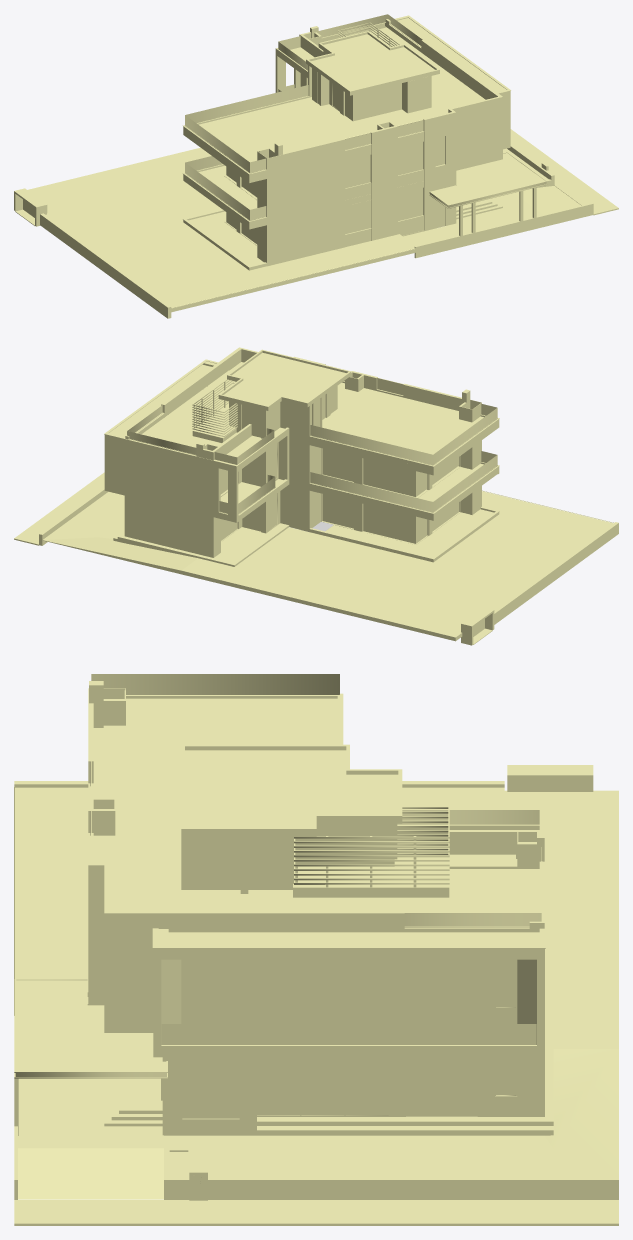
Rendered from villa.glb.
The picture shows the model from 3 angles, top to bottom: view 1: azimuth 30°, elevation 25°; view 2: azimuth 150°, elevation 25°; view 3: azimuth 270°, elevation 25°; orthographic projection. The views are drawn at different scales.
Visible parts, largest first — view 1: Line204; view 2: Line204; view 3: Line204.
Part boxes in pixels (bbox=[...]): Line204: bbox=[14, 14, 618, 318]; Line204: bbox=[14, 347, 618, 645]; Line204: bbox=[14, 674, 618, 1225].
Size of the model in its own units: 40.51 by 12.99 by 24.36.
